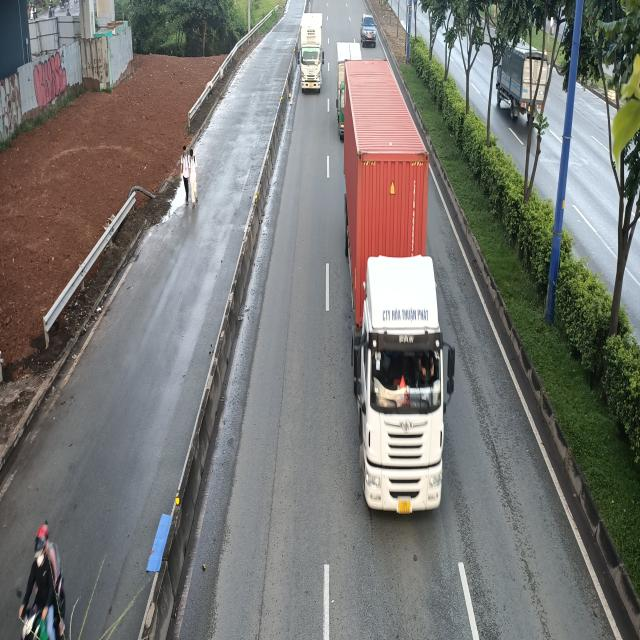car: (359, 15, 376, 48)
container: (344, 63, 458, 515)
truck: (296, 11, 323, 91)
